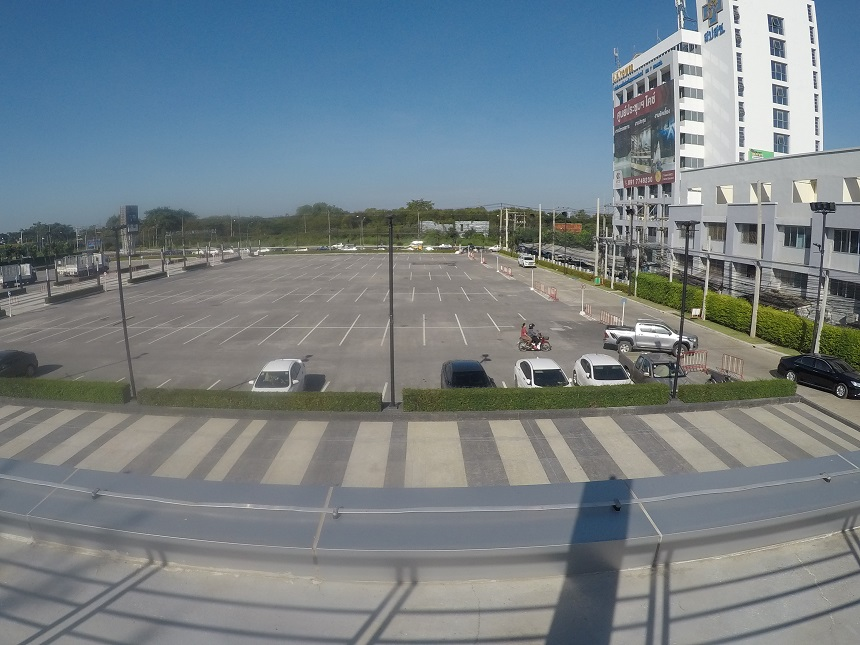busy: (251, 359, 307, 391), (440, 356, 497, 385), (575, 356, 621, 383), (518, 357, 562, 385), (638, 353, 678, 380), (4, 348, 30, 372)
